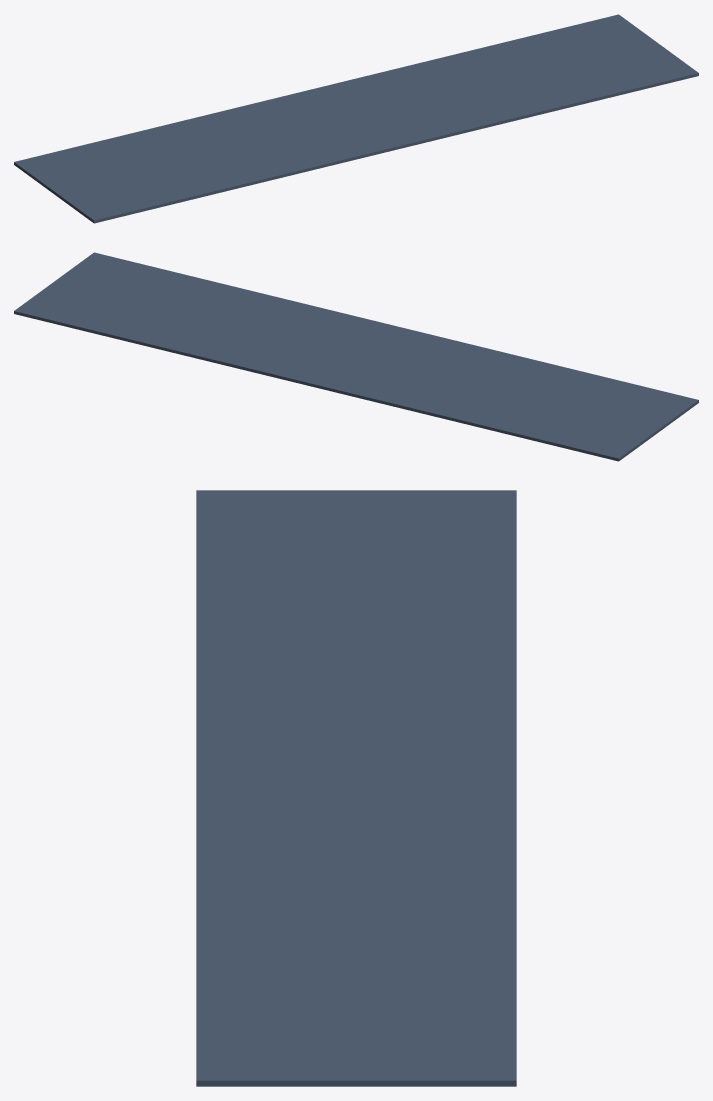
File: floor_geometry.obj
3 views of the same model, one above another, from view 1: azimuth 30°, elevation 25°; view 2: azimuth 150°, elevation 25°; view 3: azimuth 270°, elevation 25° (orthographic). The views are drawn at different scales.
Parts seen in each view (by area): view 1: Floor_001_t_freight_tehnicheskaya_servisnaya_pri_floor, Floor_003_t_freight_gruzovoy_lift_floor, Floor_002_t_freight_zaschischennyy_sluzhebnyy_ob_floor, Floor_006_t_freight_obhod_shahty_avariynaya_svya_floor, Floor_010_t_freight_sluzhebnyy_floor, Floor_008_t_freight_privod_floor; view 2: Floor_001_t_freight_tehnicheskaya_servisnaya_pri_floor, Floor_003_t_freight_gruzovoy_lift_floor, Floor_002_t_freight_zaschischennyy_sluzhebnyy_ob_floor, Floor_006_t_freight_obhod_shahty_avariynaya_svya_floor, Floor_008_t_freight_privod_floor, Floor_010_t_freight_sluzhebnyy_floor; view 3: Floor_001_t_freight_tehnicheskaya_servisnaya_pri_floor, Floor_003_t_freight_gruzovoy_lift_floor, Floor_002_t_freight_zaschischennyy_sluzhebnyy_ob_floor, Floor_006_t_freight_obhod_shahty_avariynaya_svya_floor, Floor_010_t_freight_sluzhebnyy_floor, Floor_008_t_freight_privod_floor.
Part boxes in pixels (x1=…): Floor_001_t_freight_tehnicheskaya_servisnaya_pri_floor: x1=14, y1=71, x2=451, y2=211; Floor_003_t_freight_gruzovoy_lift_floor: x1=388, y1=27, x2=631, y2=117; Floor_002_t_freight_zaschischennyy_sluzhebnyy_ob_floor: x1=78, y1=118, x2=467, y2=223; Floor_006_t_freight_obhod_shahty_avariynaya_svya_floor: x1=452, y1=61, x2=698, y2=132; Floor_010_t_freight_sluzhebnyy_floor: x1=604, y1=37, x2=682, y2=72; Floor_008_t_freight_privod_floor: x1=572, y1=14, x2=650, y2=48; Floor_001_t_freight_tehnicheskaya_servisnaya_pri_floor: x1=245, y1=320, x2=682, y2=461; Floor_003_t_freight_gruzovoy_lift_floor: x1=65, y1=276, x2=308, y2=370; Floor_002_t_freight_zaschischennyy_sluzhebnyy_ob_floor: x1=310, y1=309, x2=698, y2=414; Floor_006_t_freight_obhod_shahty_avariynaya_svya_floor: x1=78, y1=252, x2=324, y2=320; Floor_008_t_freight_privod_floor: x1=14, y1=288, x2=92, y2=325; Floor_010_t_freight_sluzhebnyy_floor: x1=46, y1=264, x2=124, y2=298; Floor_001_t_freight_tehnicheskaya_servisnaya_pri_floor: x1=260, y1=490, x2=516, y2=854; Floor_003_t_freight_gruzovoy_lift_floor: x1=260, y1=855, x2=516, y2=1030; Floor_002_t_freight_zaschischennyy_sluzhebnyy_ob_floor: x1=196, y1=490, x2=260, y2=854; Floor_006_t_freight_obhod_shahty_avariynaya_svya_floor: x1=196, y1=855, x2=260, y2=1086; Floor_010_t_freight_sluzhebnyy_floor: x1=260, y1=1035, x2=389, y2=1086; Floor_008_t_freight_privod_floor: x1=389, y1=1035, x2=516, y2=1086.
Size of the model in its own units: 43.4 by 0.2 by 9.96.
